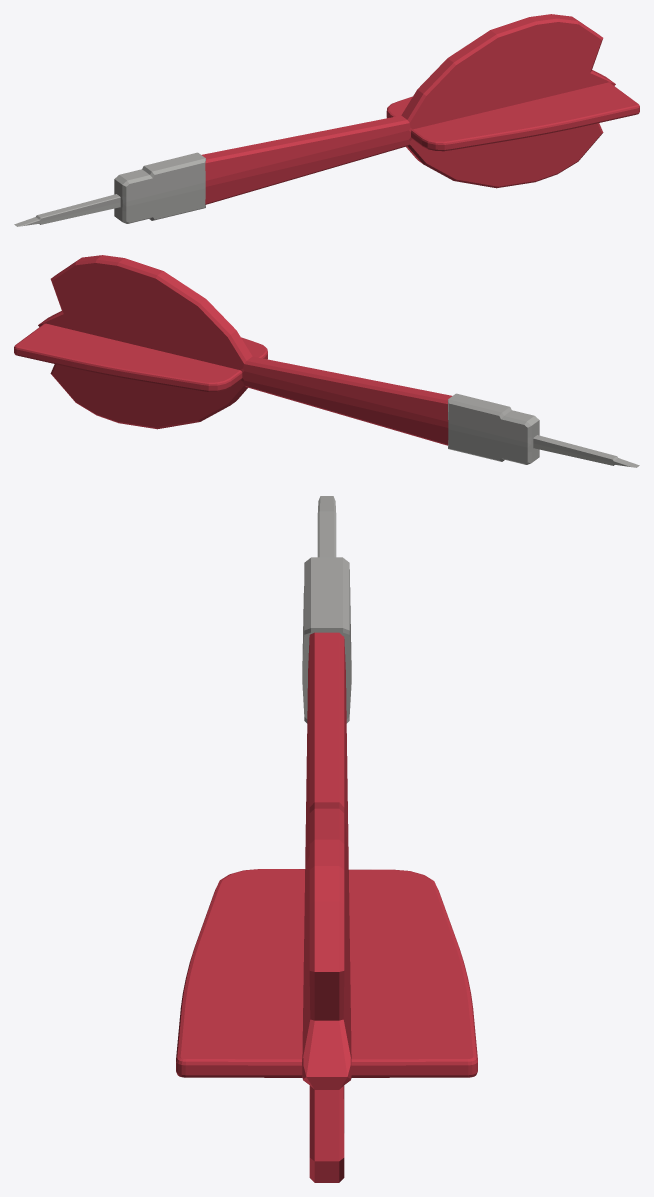
Rendered from Dardos.fbx.
3 renders of one model, top to bottom at view 1: azimuth 30°, elevation 25°; view 2: azimuth 150°, elevation 25°; view 3: azimuth 270°, elevation 25°, orthographic. The views are drawn at different scales.
Parts seen in each view (by area): view 1: Dardo; view 2: Dardo; view 3: Dardo.
Boxes of the visible parts, x1,y1,x2,y2 form: Dardo: (14, 14, 639, 226); Dardo: (14, 255, 639, 467); Dardo: (176, 496, 477, 1182).
Bounding box in the file's own units: 344 × 88.62 × 75.53.
